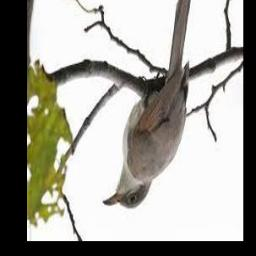Cuckoo: (102, 0, 192, 209)
